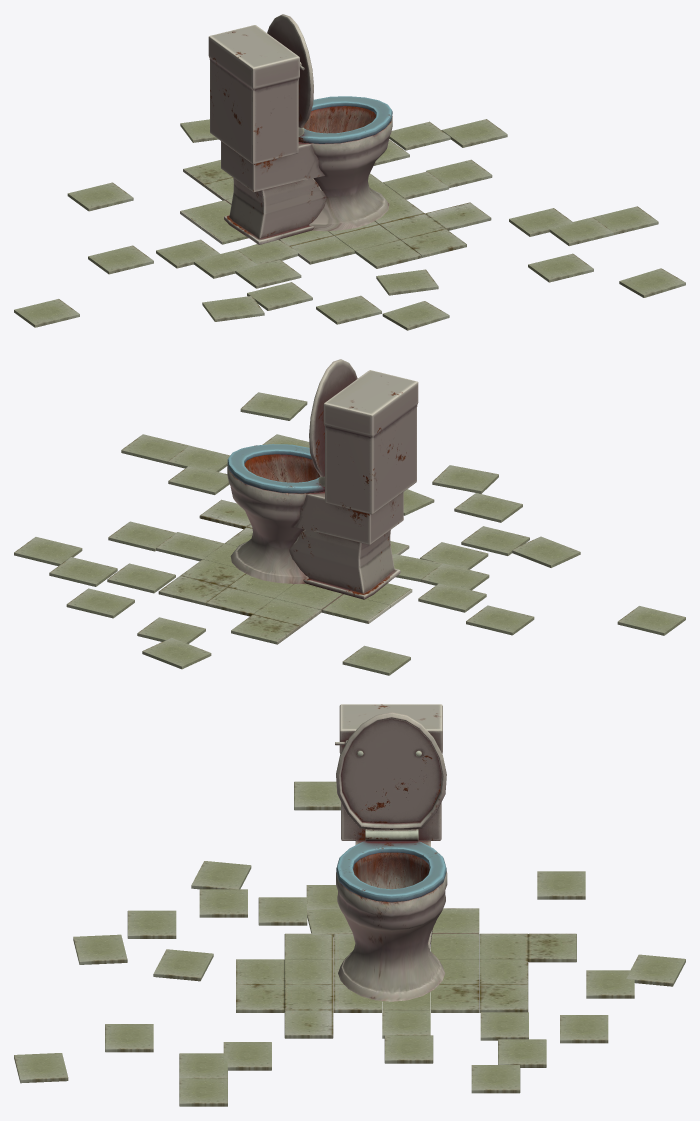
Rendered from Toilet.fbx.
The picture shows the model from 3 angles, top to bottom: view 1: azimuth 30°, elevation 25°; view 2: azimuth 150°, elevation 25°; view 3: azimuth 270°, elevation 25°; orthographic projection. The views are drawn at different scales.
Visible parts, largest first — view 1: Toilet, Toilet.004, Toilet.008, Toilet.002, Toilet.001, Toilet.007, defaultMaterial.041, defaultMaterial.035, defaultMaterial.015, defaultMaterial.037, defaultMaterial.047, defaultMaterial.055 (+26 smaller); view 2: Toilet, Toilet.004, Toilet.008, Toilet.002, Toilet.001, Toilet.007, defaultMaterial.052, defaultMaterial.035, defaultMaterial.007, defaultMaterial.026, defaultMaterial.043, defaultMaterial.045 (+28 smaller); view 3: Toilet.004, Toilet.007, Toilet.001, Toilet, defaultMaterial.007, defaultMaterial.039, defaultMaterial.021, defaultMaterial.043, defaultMaterial.051, defaultMaterial.010, defaultMaterial.044, defaultMaterial.041 (+32 smaller).
Part boxes in pixels (x1,y1,x2,y2): Toilet: (208, 25, 299, 164); Toilet.004: (303, 106, 392, 231); Toilet.008: (224, 178, 326, 244); Toilet.002: (221, 141, 324, 192); Toilet.001: (298, 96, 392, 143); Toilet.007: (267, 14, 313, 127); defaultMaterial.041: (382, 301, 449, 330); defaultMaterial.035: (67, 182, 133, 211); defaultMaterial.015: (355, 240, 421, 268); defaultMaterial.037: (88, 245, 153, 274); defaultMaterial.047: (619, 268, 685, 297); defaultMaterial.055: (235, 260, 301, 288); Toilet: (323, 370, 418, 514); Toilet.004: (227, 454, 320, 584); Toilet.008: (289, 529, 400, 599); Toilet.002: (293, 491, 403, 544); Toilet.001: (227, 444, 324, 493); Toilet.007: (309, 359, 357, 477); defaultMaterial.052: (142, 637, 211, 669); defaultMaterial.035: (342, 645, 410, 675); defaultMaterial.007: (231, 614, 299, 644); defaultMaterial.026: (49, 557, 117, 586); defaultMaterial.043: (454, 493, 522, 522); defaultMaterial.045: (66, 588, 134, 618); Toilet.004: (336, 852, 447, 1001); Toilet.007: (336, 712, 446, 829); Toilet.001: (336, 841, 446, 902); Toilet: (339, 704, 442, 840); defaultMaterial.007: (528, 933, 576, 962); defaultMaterial.039: (153, 949, 213, 981); defaultMaterial.021: (284, 1010, 333, 1038); defaultMaterial.043: (127, 910, 176, 938); defaultMaterial.051: (471, 1065, 520, 1093); defaultMaterial.010: (479, 984, 528, 1012); defaultMaterial.044: (384, 1035, 433, 1063); defaultMaterial.041: (73, 934, 127, 964).
Size of the model in its own units: 447 by 155 by 394.
1 material, 1 textured.
